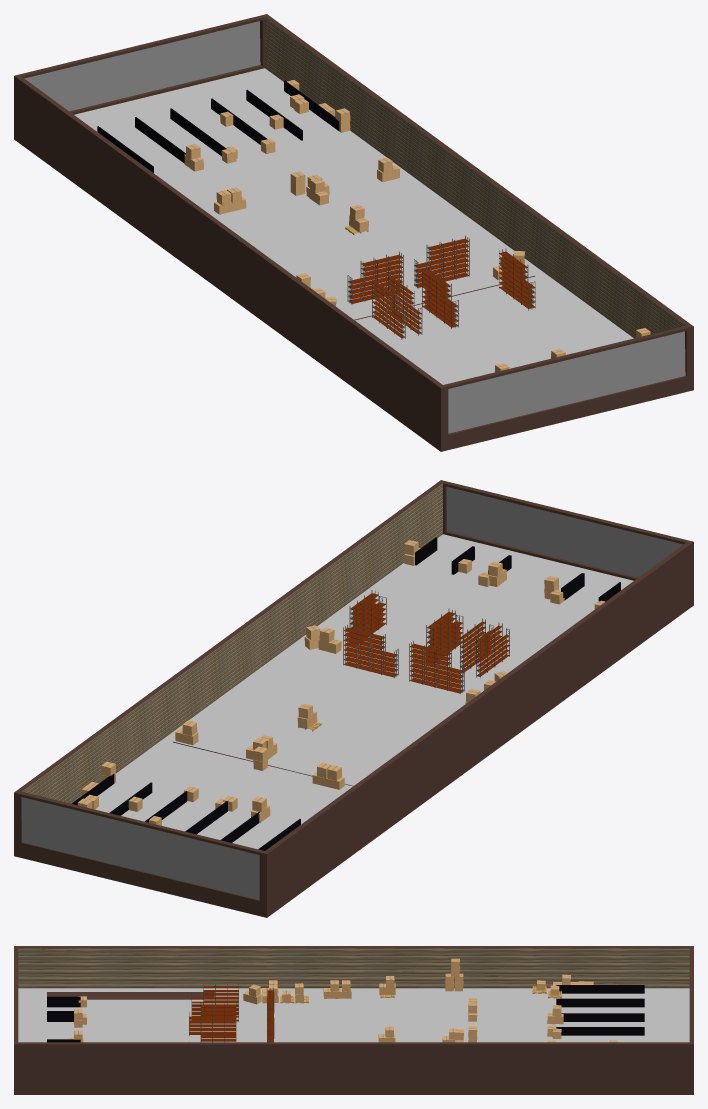
File: Warehouse_version_2.obj
3 renders of one model, top to bottom at view 1: azimuth 30°, elevation 25°; view 2: azimuth 150°, elevation 25°; view 3: azimuth 270°, elevation 25°, orthographic. The views are drawn at different scales.
Parts seen in each view (by area): view 1: Warehouse_version_2, Plane.001, Plane, mezanine_racking.005_Cube.001, mezanine_racking.005_Cube.002, mezanine_racking.005_Cube.005, mezanine_racking_Cube.009, mezanine_racking.009_Cube.002, mezanine_racking.009_Cube.001; view 2: Warehouse_version_2, Plane, Plane.001, mezanine_racking.005_Cube.002, mezanine_racking.005_Cube.001, mezanine_racking.005_Cube.005, mezanine_racking_Cube.009, mezanine_racking.009_Cube.002, mezanine_racking.009_Cube.001; view 3: Warehouse_version_2, mezanine_racking.005_Cube.005, mezanine_racking.009_Cube.001, mezanine_racking.009_Cube.002.
Part boxes in pixels (box(x1,y1,x2,y2)): Warehouse_version_2: box(14, 14, 693, 451); Plane.001: box(448, 331, 685, 433); Plane: box(24, 21, 260, 111); mezanine_racking.005_Cube.001: box(427, 238, 469, 281); mezanine_racking.005_Cube.002: box(361, 254, 403, 301); mezanine_racking.005_Cube.005: box(422, 270, 450, 322); mezanine_racking_Cube.009: box(499, 251, 527, 303); mezanine_racking.009_Cube.002: box(372, 281, 397, 332); mezanine_racking.009_Cube.001: box(388, 277, 414, 328); Warehouse_version_2: box(14, 480, 693, 917); Plane: box(21, 797, 259, 899); Plane.001: box(446, 486, 683, 577); mezanine_racking.005_Cube.002: box(409, 643, 451, 690); mezanine_racking.005_Cube.001: box(343, 627, 385, 673); mezanine_racking.005_Cube.005: box(427, 612, 455, 663); mezanine_racking_Cube.009: box(350, 593, 378, 644); mezanine_racking.009_Cube.002: box(477, 625, 502, 676); mezanine_racking.009_Cube.001: box(460, 621, 485, 671); Warehouse_version_2: box(14, 946, 693, 1094); mezanine_racking.005_Cube.005: box(201, 1005, 235, 1034); mezanine_racking.009_Cube.001: box(203, 992, 238, 1021); mezanine_racking.009_Cube.002: box(203, 986, 238, 1014).
Bounding box in the file's own units: 40.94 × 9.84 × 120.
